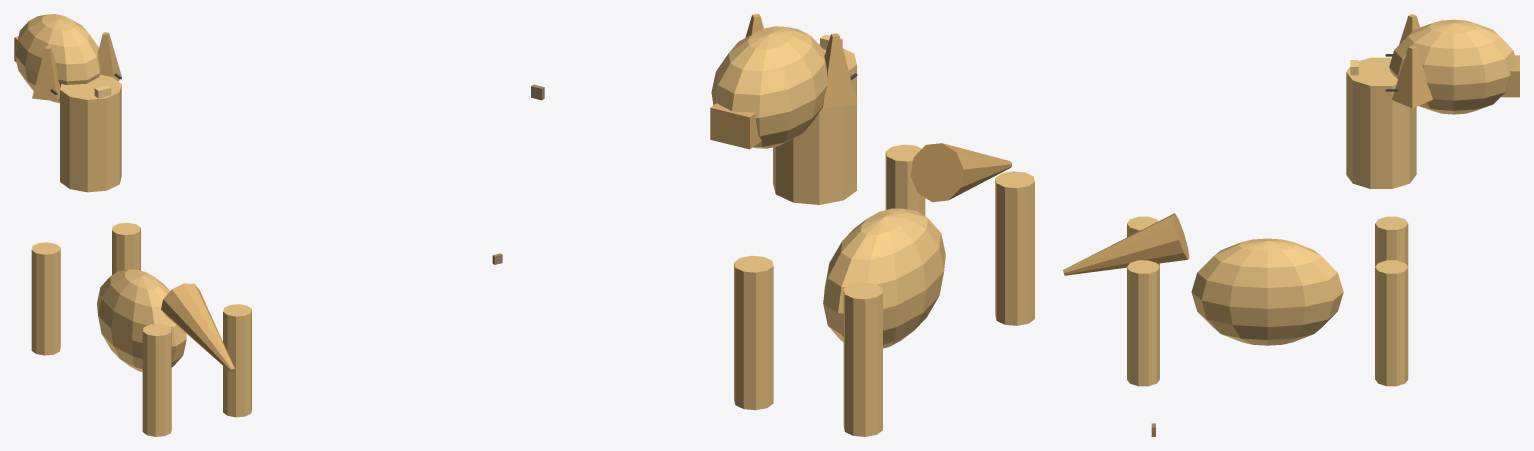
Rendered from mina.glb.
3 renders of one model, left to right at view 1: azimuth 30°, elevation 25°; view 2: azimuth 150°, elevation 25°; view 3: azimuth 270°, elevation 25°, orthographic. The views are drawn at different scales.
Parts seen in each view (by area): view 1: mina_neck, mina_body, mina_head, mina_leg_FL, mina_leg_BL, mina_leg_BR, mina_tail, mina_leg_FR, mina_telinga_l, mina_telinga_r; view 2: mina_body, mina_head, mina_neck, mina_leg_FL, mina_leg_FR, mina_leg_BL, mina_tail, mina_leg_BR, mina_mukon, mina_telinga_l; view 3: mina_body, mina_head, mina_neck, mina_leg_FR, mina_leg_BR, mina_tail, mina_telinga_r, mina_leg_FL.
Part boxes in pixels (box(x1,y1,x2,y2)): mina_neck: box(60, 74, 121, 192); mina_body: box(97, 269, 186, 371); mina_head: box(15, 14, 100, 103); mina_leg_FL: box(31, 242, 60, 355); mina_leg_BL: box(142, 323, 171, 436); mina_leg_BR: box(223, 304, 251, 417); mina_tail: box(161, 283, 235, 372); mina_leg_FR: box(112, 222, 140, 274); mina_telinga_l: box(32, 46, 60, 101); mina_telinga_r: box(98, 32, 121, 81); mina_body: box(823, 208, 945, 348); mina_head: box(711, 26, 827, 148); mina_neck: box(773, 43, 856, 204); mina_leg_FL: box(843, 282, 882, 436); mina_leg_FR: box(734, 255, 773, 410); mina_leg_BL: box(995, 171, 1034, 325); mina_tail: box(910, 143, 1012, 202); mina_leg_BR: box(885, 144, 925, 215); mina_mukon: box(710, 103, 761, 149); mina_telinga_l: box(822, 33, 856, 108); mina_body: box(1191, 238, 1343, 345); mina_head: box(1389, 19, 1516, 114); mina_neck: box(1346, 57, 1416, 188); mina_leg_FR: box(1375, 260, 1408, 386); mina_leg_BR: box(1127, 260, 1159, 386); mina_tail: box(1063, 213, 1189, 275); mina_telinga_r: box(1392, 45, 1432, 108); mina_leg_FL: box(1375, 216, 1408, 266).
Bounding box in the file's own units: 2.25 × 1.78 × 2.21.
